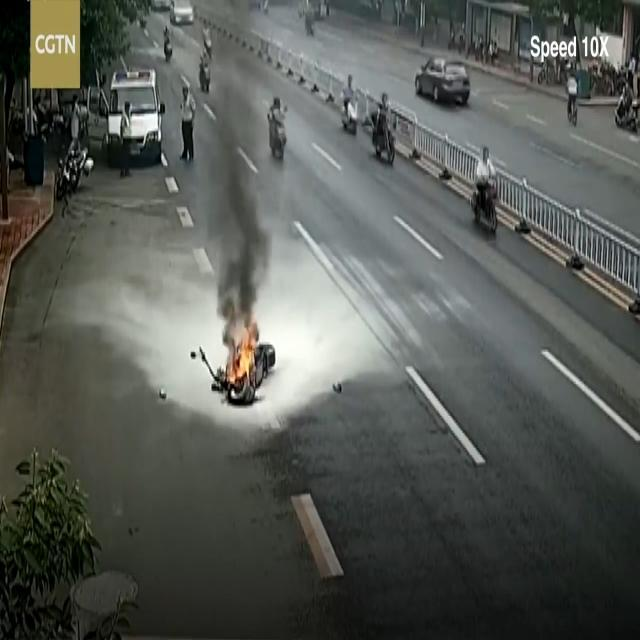Fire: (228, 328, 255, 382)
Smoke: (208, 85, 270, 343)
